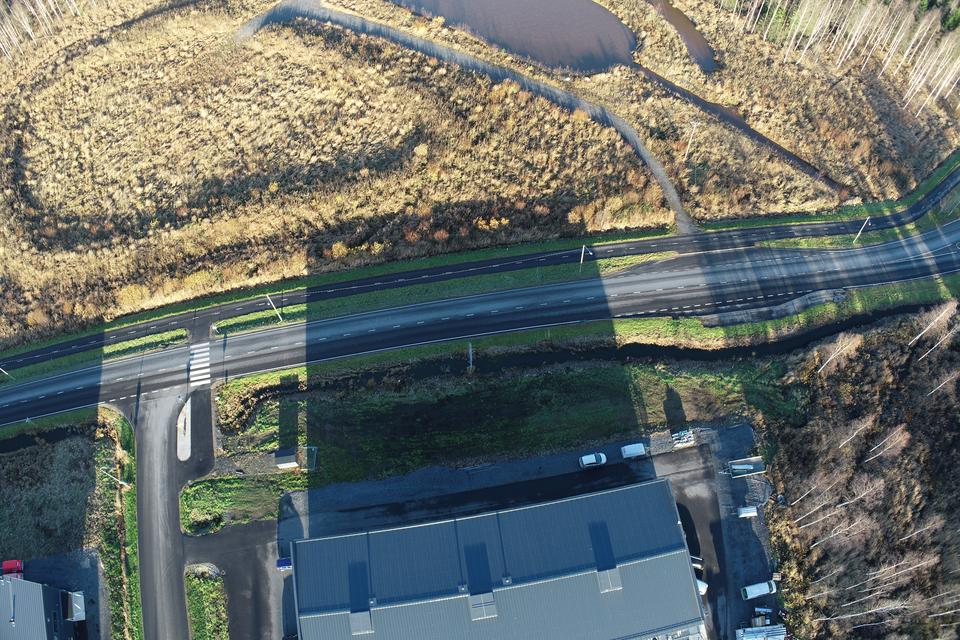intersection: (109, 292, 223, 479), (647, 192, 740, 333)
